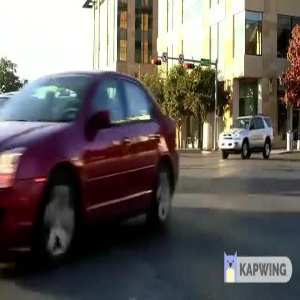car: (1, 67, 184, 273)
suv: (212, 110, 277, 164)
